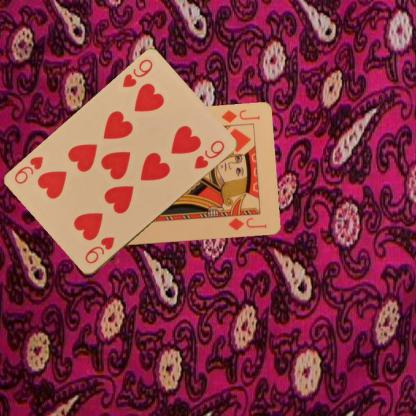9h: (120, 56, 154, 90), (82, 234, 116, 266)
Jd: (218, 108, 260, 124)
